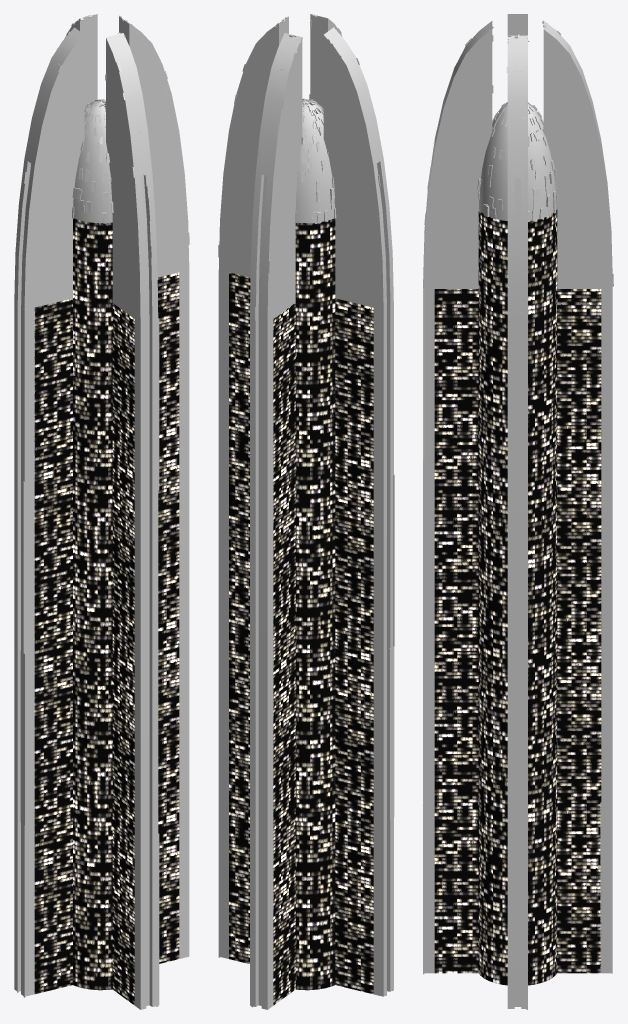
File: Star_7.glb
The picture shows the model from 3 angles, left to right: view 1: azimuth 30°, elevation 25°; view 2: azimuth 150°, elevation 25°; view 3: azimuth 270°, elevation 25°; orthographic projection.
Visible parts, largest first — view 1: Building7; view 2: Building7; view 3: Building7.
Boxes of the visible parts, x1,y1,x2,y2 form: Building7: [14, 14, 189, 1009]; Building7: [218, 14, 394, 1009]; Building7: [423, 14, 613, 1009].
Bounding box in the file's own units: 2.77 × 15.09 × 2.76.
Materials: 3 (1 with a texture image).
